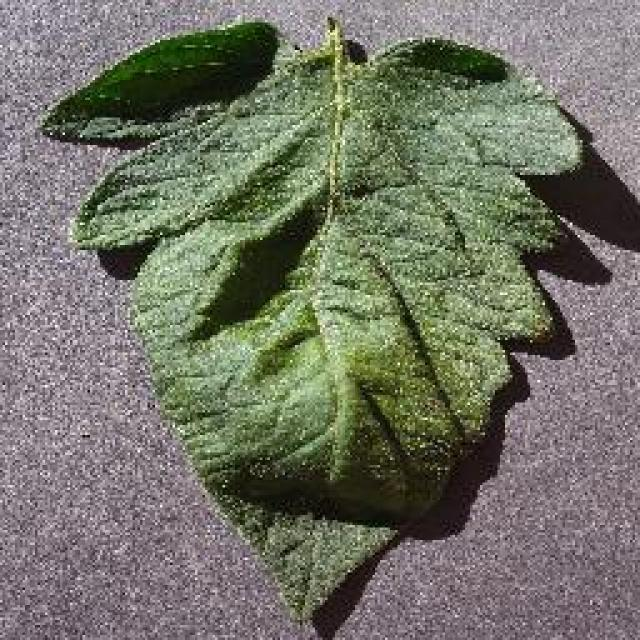Tomato___healthy: (34, 14, 586, 627)
